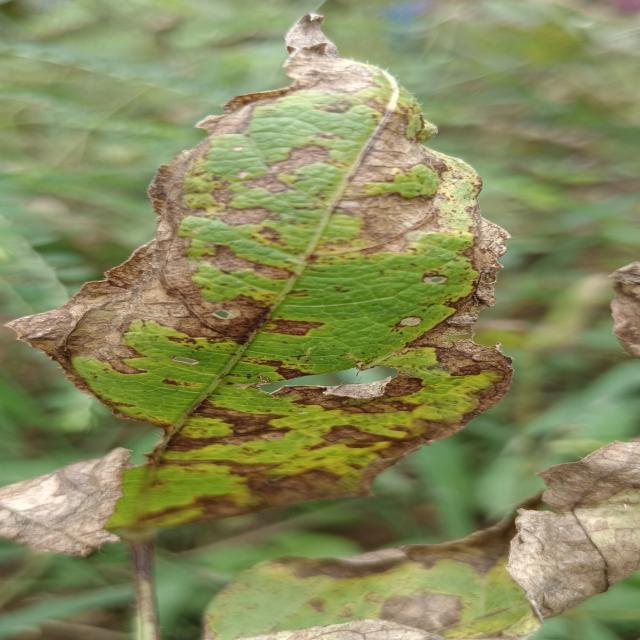Black gram_leaf spot: (0, 8, 526, 550), (192, 436, 640, 640)
